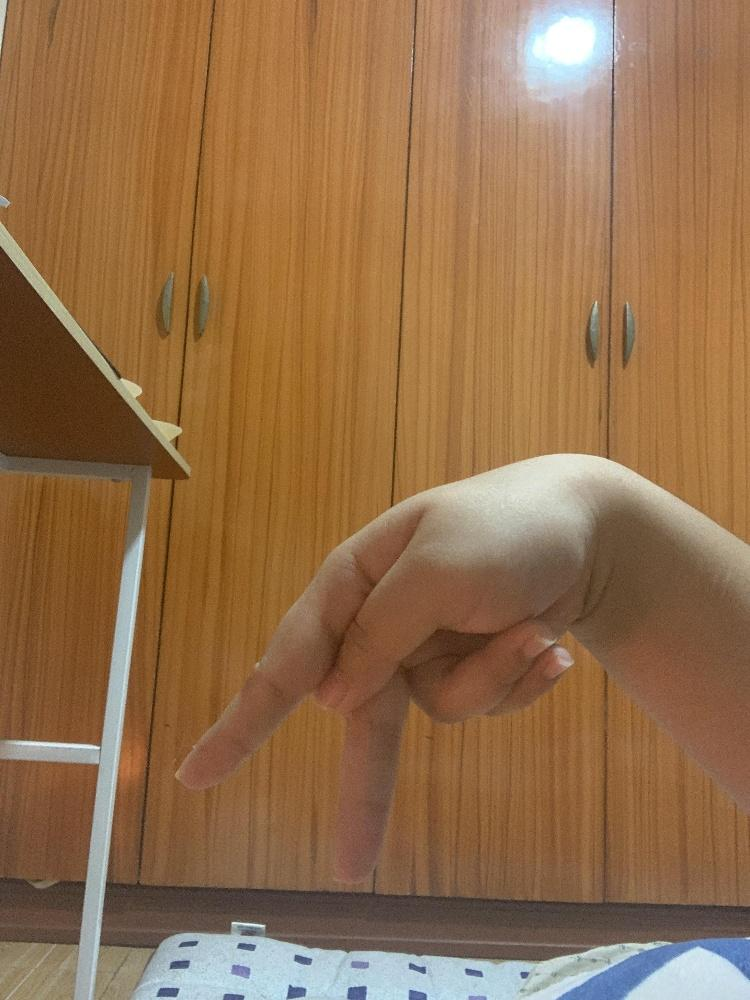p: (170, 449, 630, 886)
